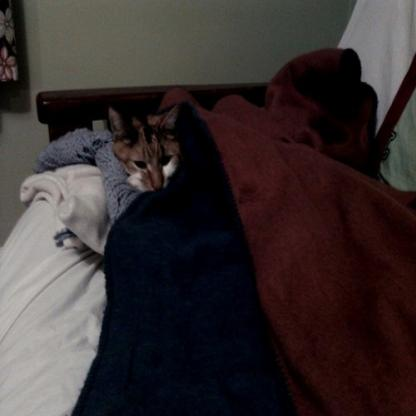Target: (106, 104, 188, 202)
